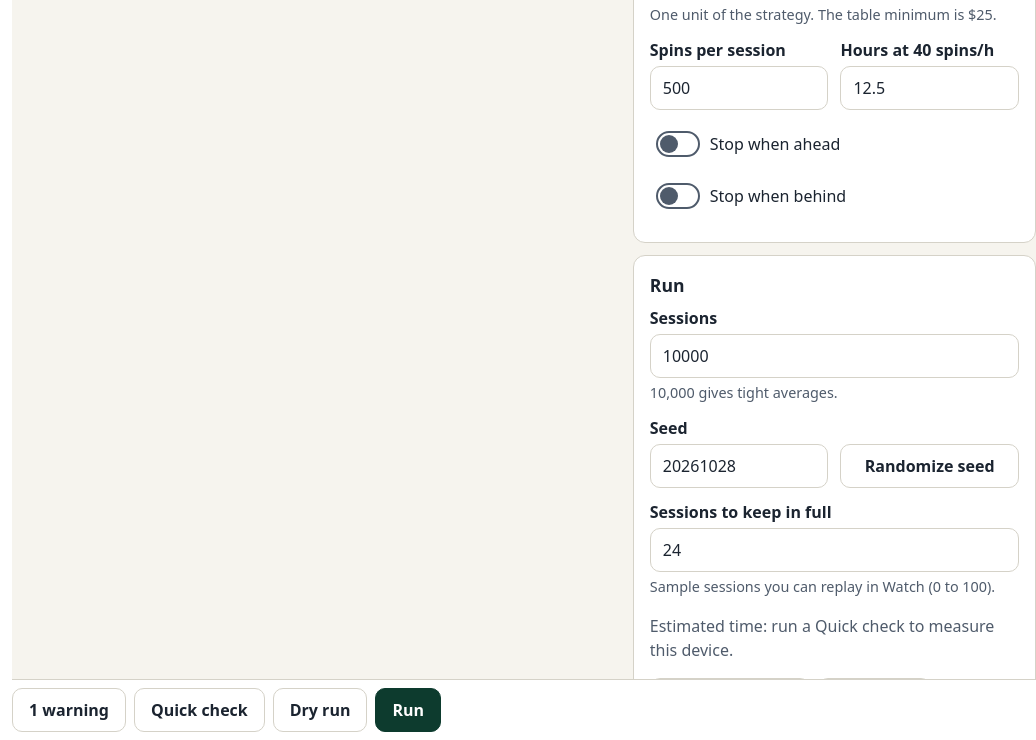
Test: review fixes › out-of-range numbers show an inline error instead of being ignored
(page scrolled)
Replace the text in the field with id "sessions" with "0" at (834, 356), box [650, 334, 1019, 378]
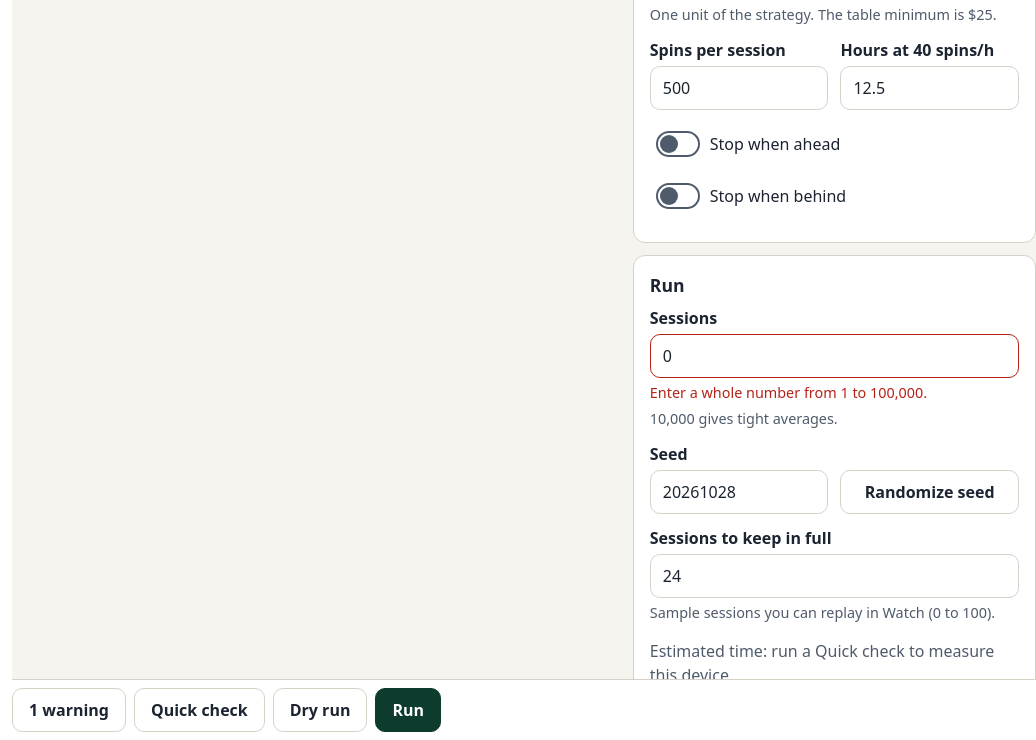
Result: the message "Enter a whole number from 1 to 100,000." is shown at [650, 384, 927, 402]
